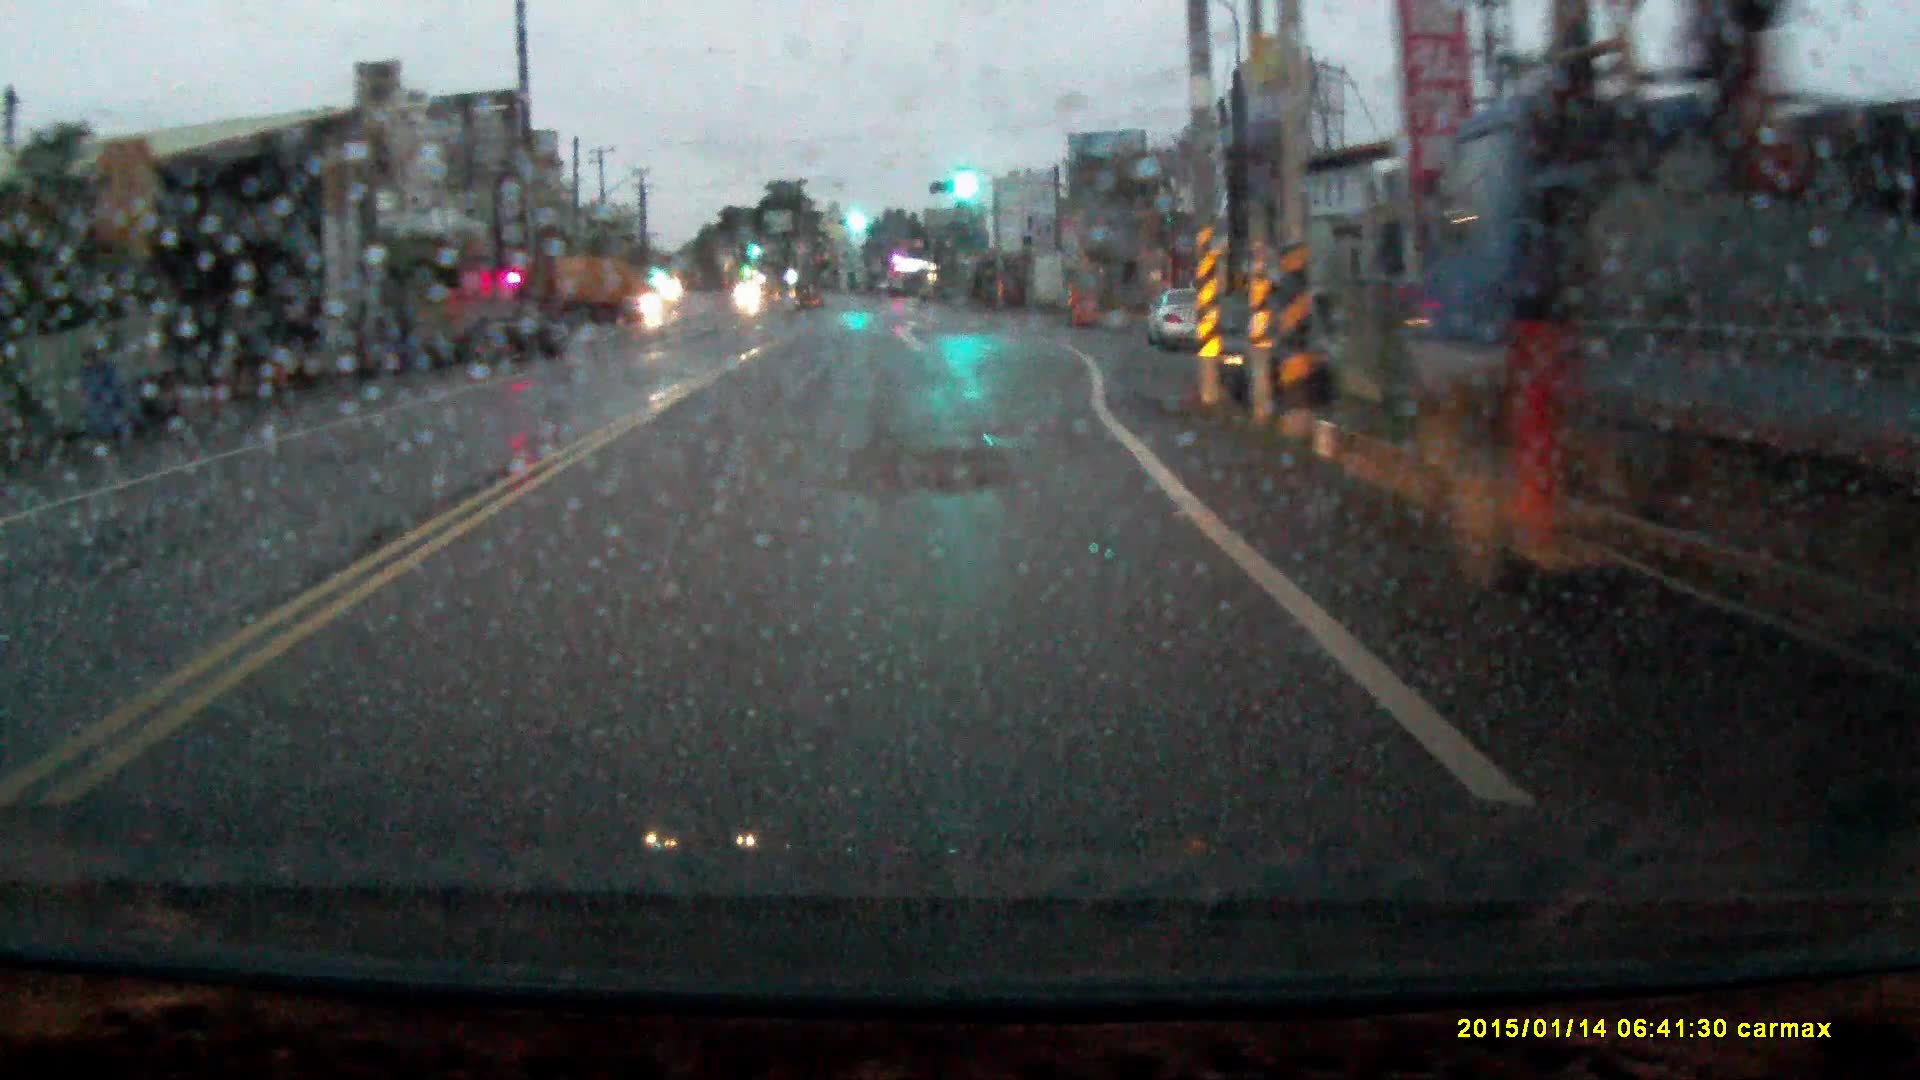vehicle: (1420, 82, 1920, 705), (1199, 291, 1331, 410), (525, 258, 644, 326), (465, 301, 568, 369), (1145, 287, 1199, 349)
